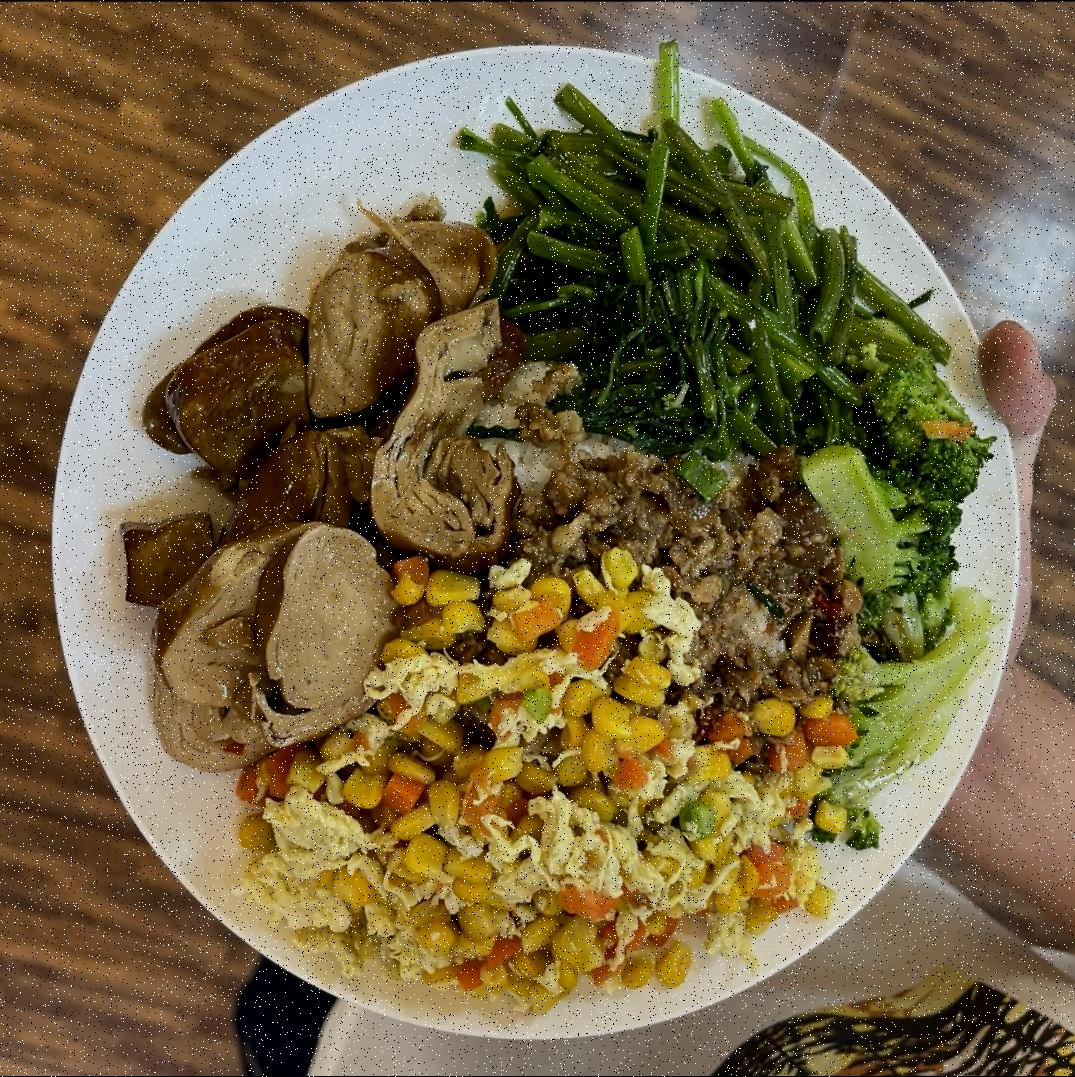big fried chicken leg: (24, 16, 1046, 1062)
braised fish fillet: (228, 572, 836, 1009), (111, 204, 516, 778), (476, 92, 881, 452), (815, 290, 1008, 800)
braised pork: (506, 426, 855, 707)
